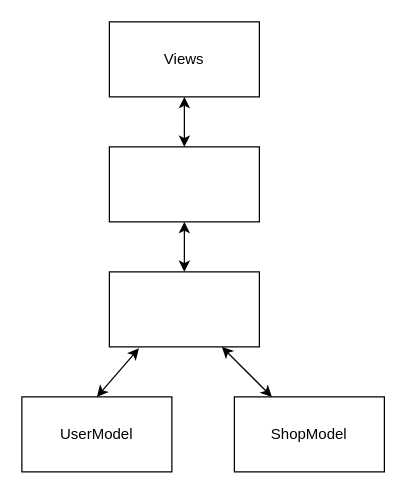
This 406x494 diagram has some shape labels left out. Each missing label, with the centre of its shape:
PageController: [183,184]
PageModel: [183,309]
